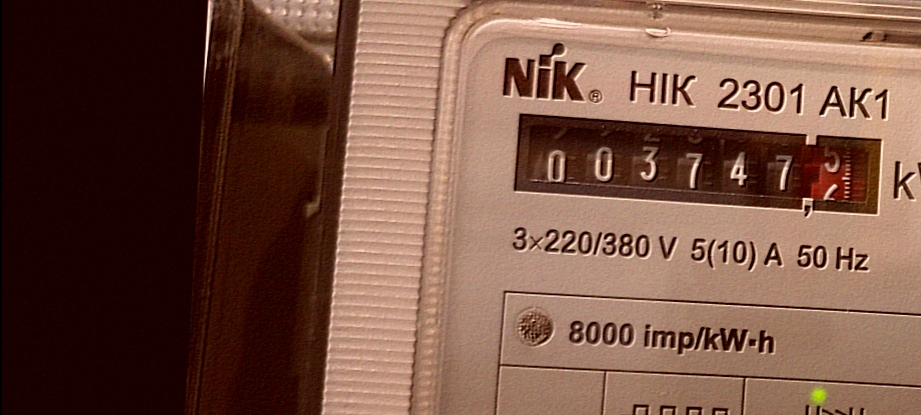0: (592, 142, 615, 182), (545, 146, 568, 183)
3: (638, 144, 659, 181)
4: (727, 147, 750, 188)
5: (822, 144, 843, 173)
6: (820, 179, 840, 201)
7: (771, 150, 795, 191), (682, 149, 704, 189)
screen: (504, 101, 898, 230)
